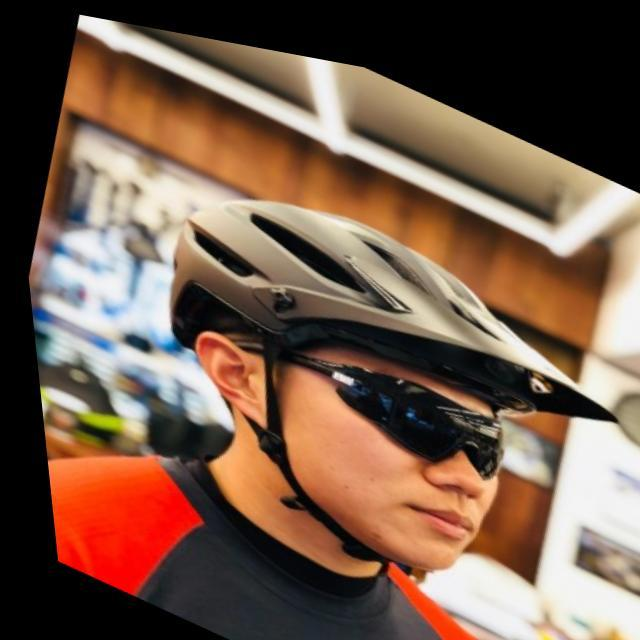Helmet: (166, 195, 620, 581)
